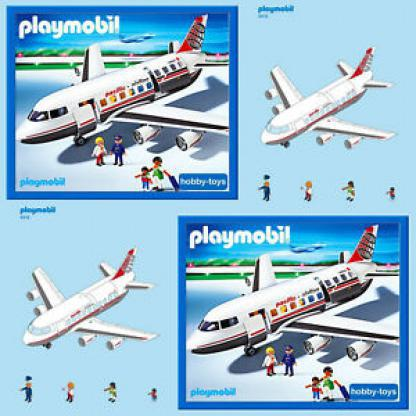CIV_Plane: (184, 219, 384, 358), (18, 10, 219, 145), (15, 244, 160, 358), (253, 46, 398, 159)
